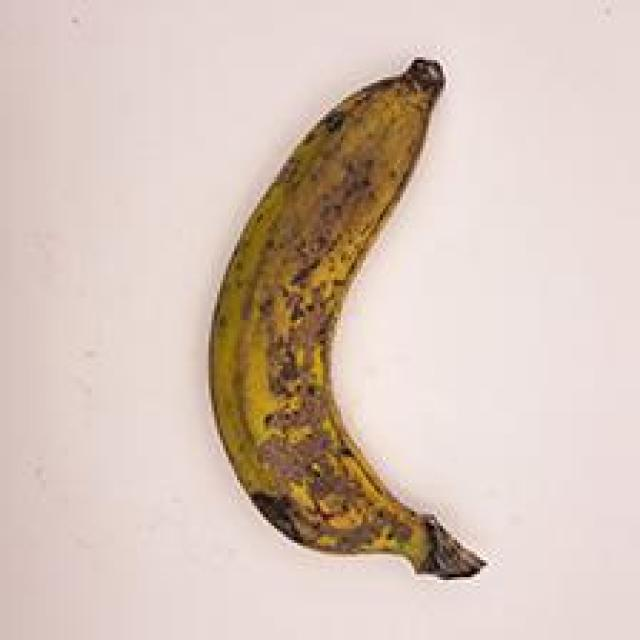Overripe: (175, 37, 521, 610)
